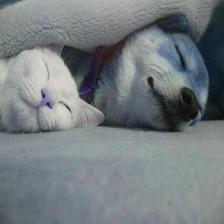kedo: (0, 39, 105, 133)
